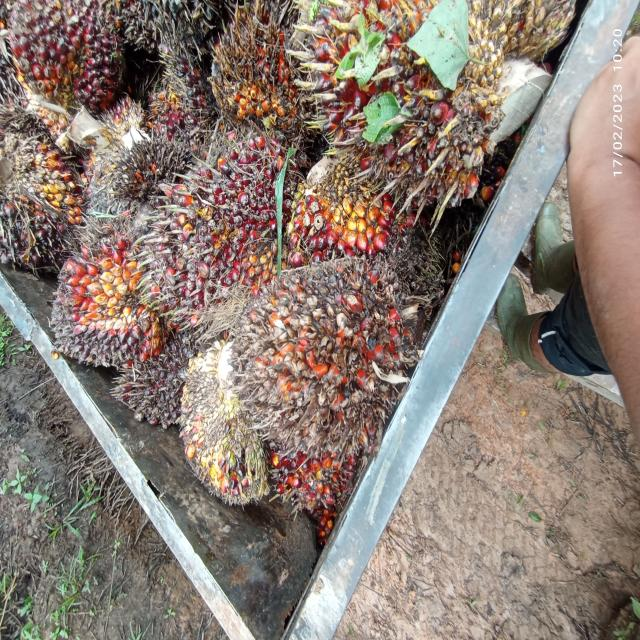fraksi 00: (46, 220, 160, 376), (111, 293, 220, 444), (0, 122, 92, 290), (126, 0, 219, 97)
fraksi 1: (296, 0, 526, 216), (142, 139, 301, 301), (292, 138, 412, 284), (7, 0, 117, 126), (144, 75, 220, 161)
fraksi 4: (221, 252, 405, 430), (215, 3, 308, 141)
